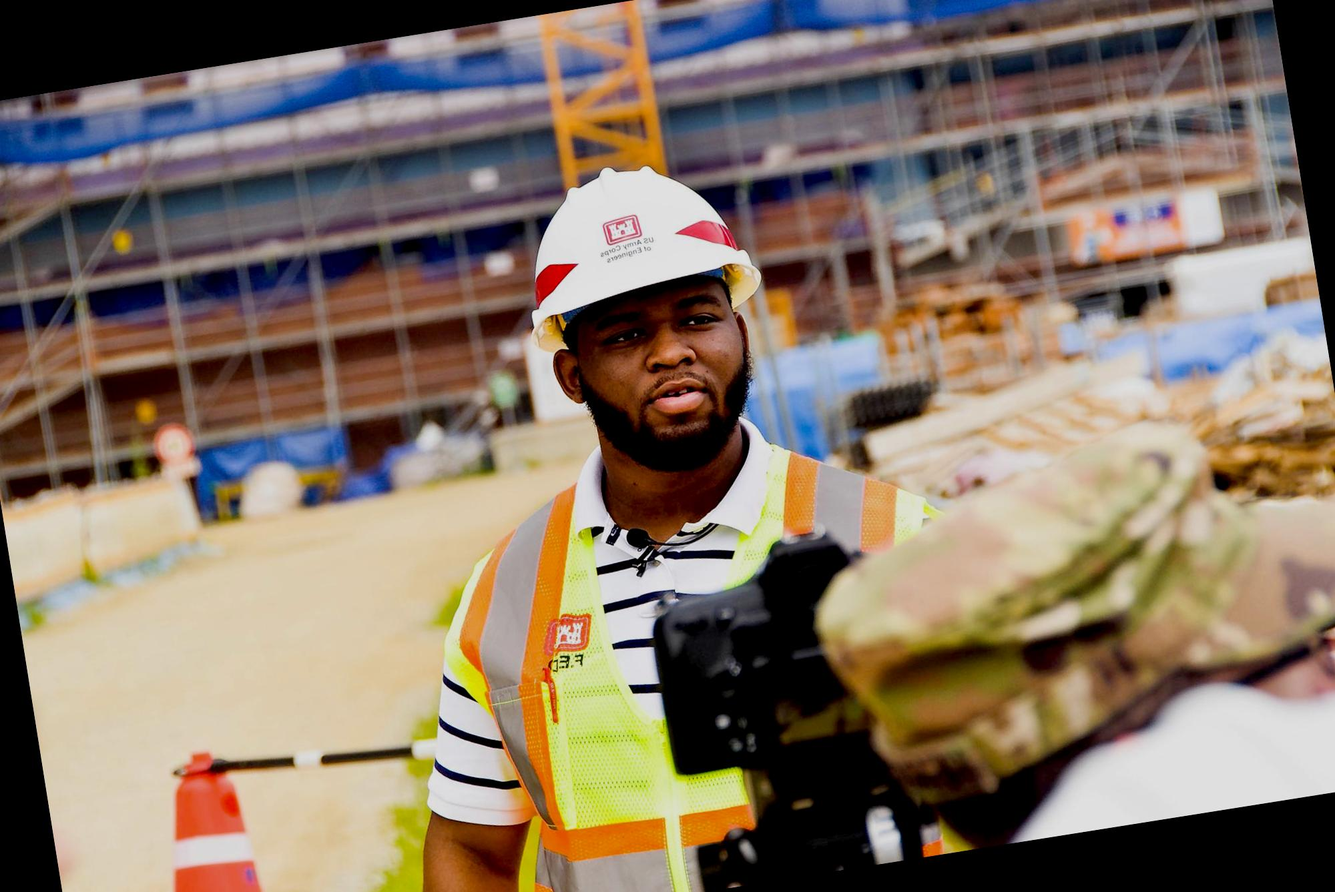helmet: (483, 129, 785, 354)
no_vest: (408, 420, 944, 892)
person: (292, 123, 937, 892)
